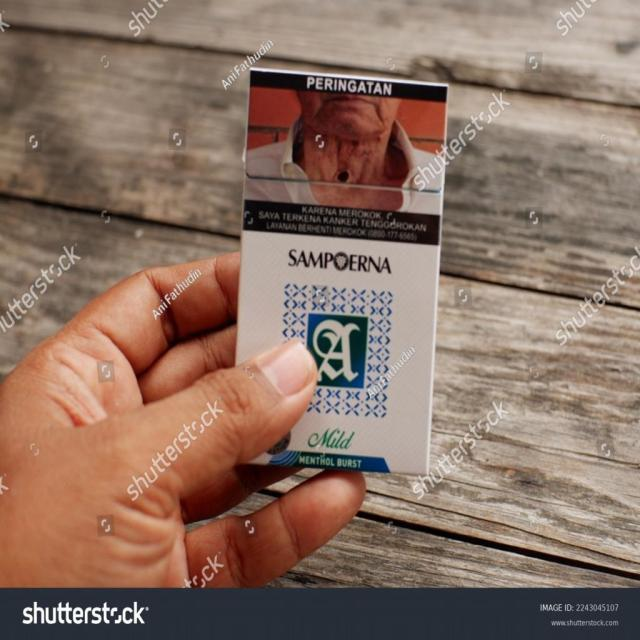smoking: (227, 64, 454, 479)
